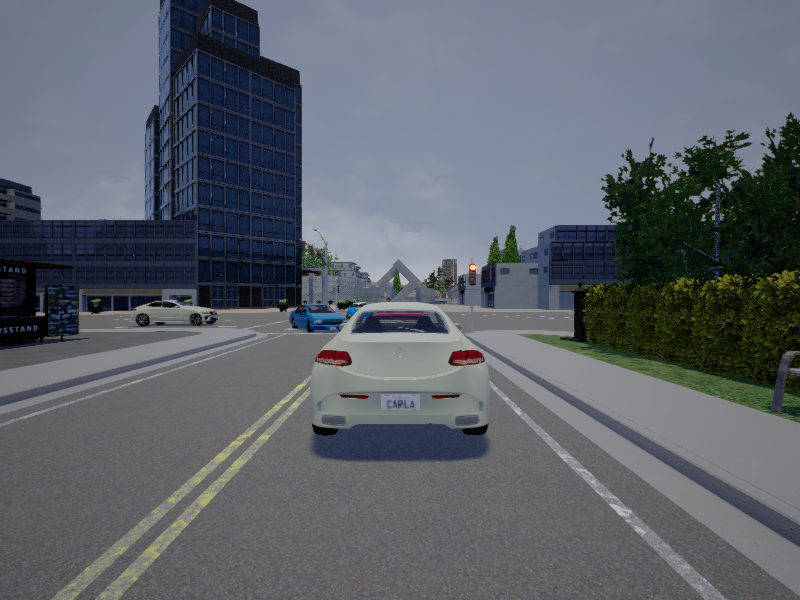Benign: (312, 306, 489, 439), (133, 299, 222, 327), (289, 304, 348, 335)
